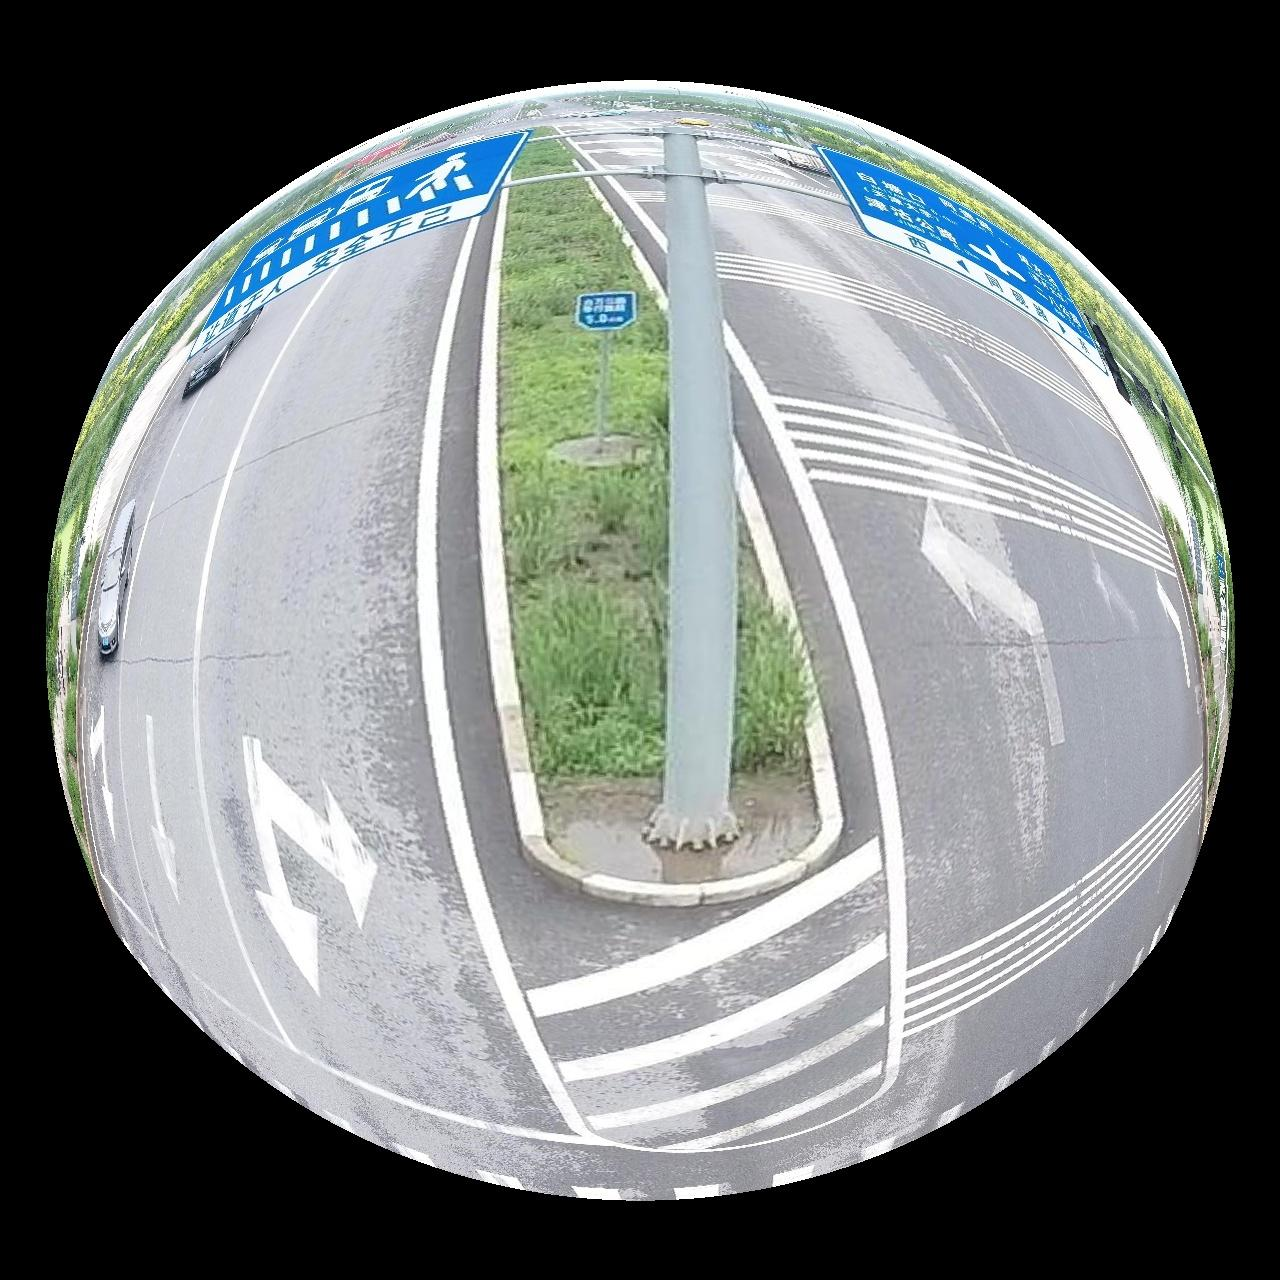cars: (181, 309, 259, 399), (95, 499, 136, 659)
